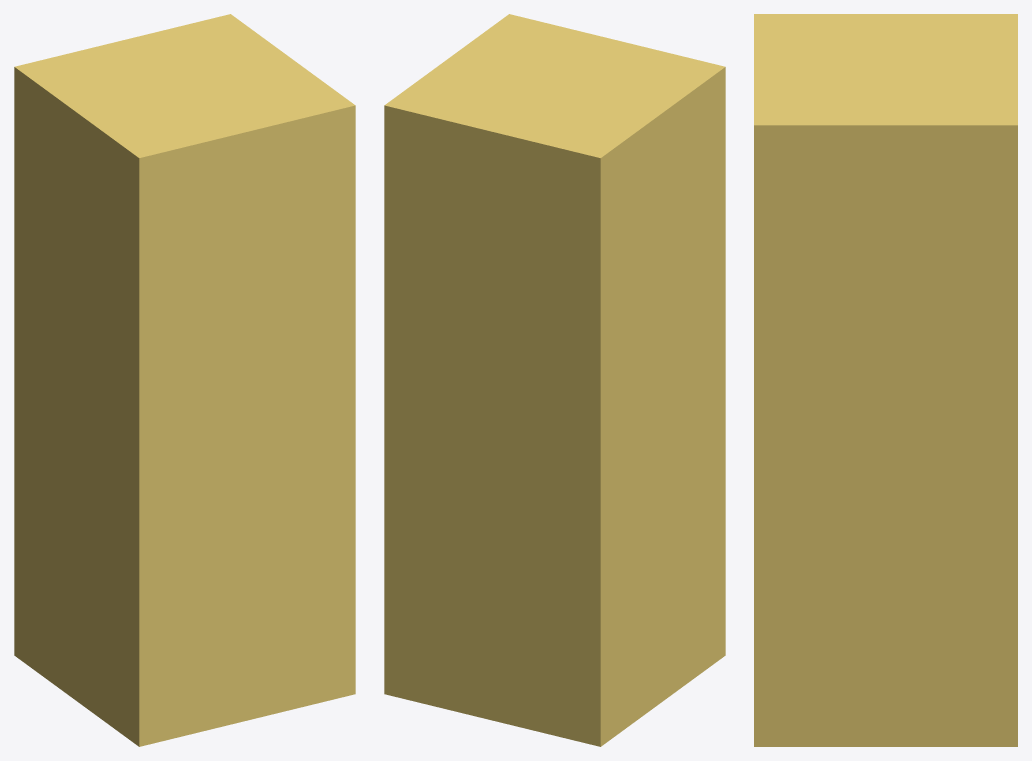
The model's file is morph_many.glb.
3 views of the same model, side by side, from view 1: azimuth 30°, elevation 25°; view 2: azimuth 150°, elevation 25°; view 3: azimuth 270°, elevation 25° (orthographic). The views are drawn at different scales.
Parts seen in each view (by area): view 1: cube; view 2: cube; view 3: cube.
Boxes of the visible parts, bbox=[...] form: cube: bbox=[14, 14, 355, 746]; cube: bbox=[384, 14, 725, 746]; cube: bbox=[754, 14, 1017, 746].
Bounding box in the file's own units: 1 × 2.6 × 1.
